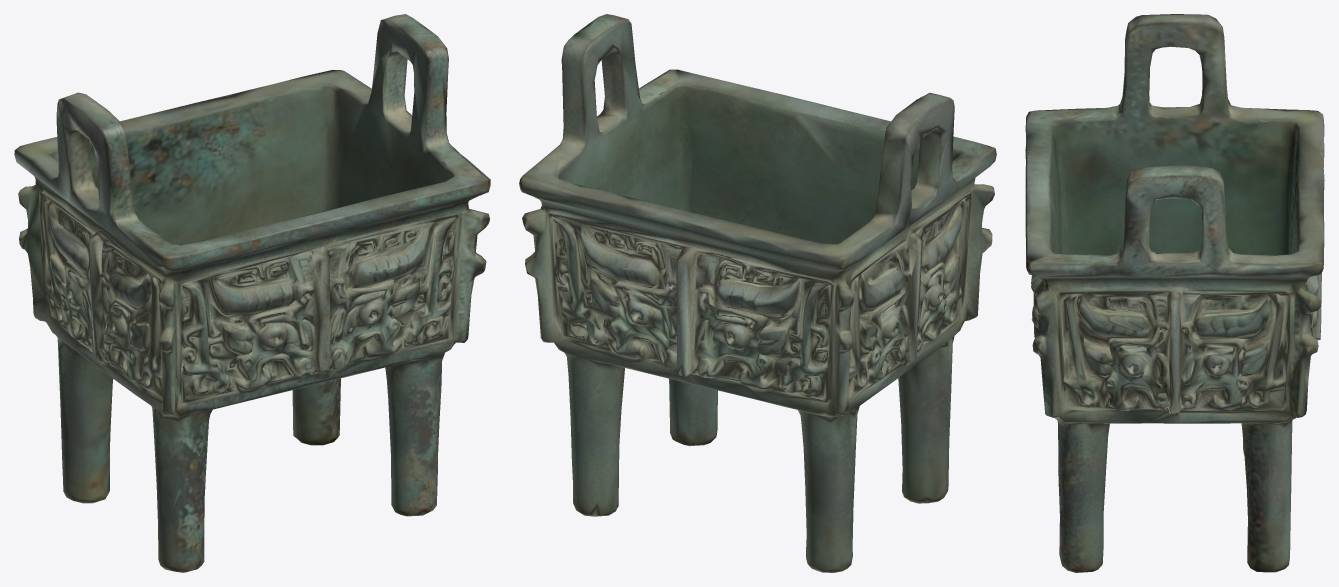
File: prop_ding.glb
3 views of the same model, side by side, from view 1: azimuth 30°, elevation 25°; view 2: azimuth 150°, elevation 25°; view 3: azimuth 270°, elevation 25° (orthographic). The views are drawn at different scales.
Visible parts, largest first — view 1: Mesh; view 2: Mesh; view 3: Mesh.
Boxes of the visible parts, <box> form: Mesh: <box>14,14,490,572</box>; Mesh: <box>519,14,996,572</box>; Mesh: <box>1025,14,1324,572</box>.
Bounding box in the file's own units: 0.8326 × 1 × 0.6463.
1 material, 1 textured.
